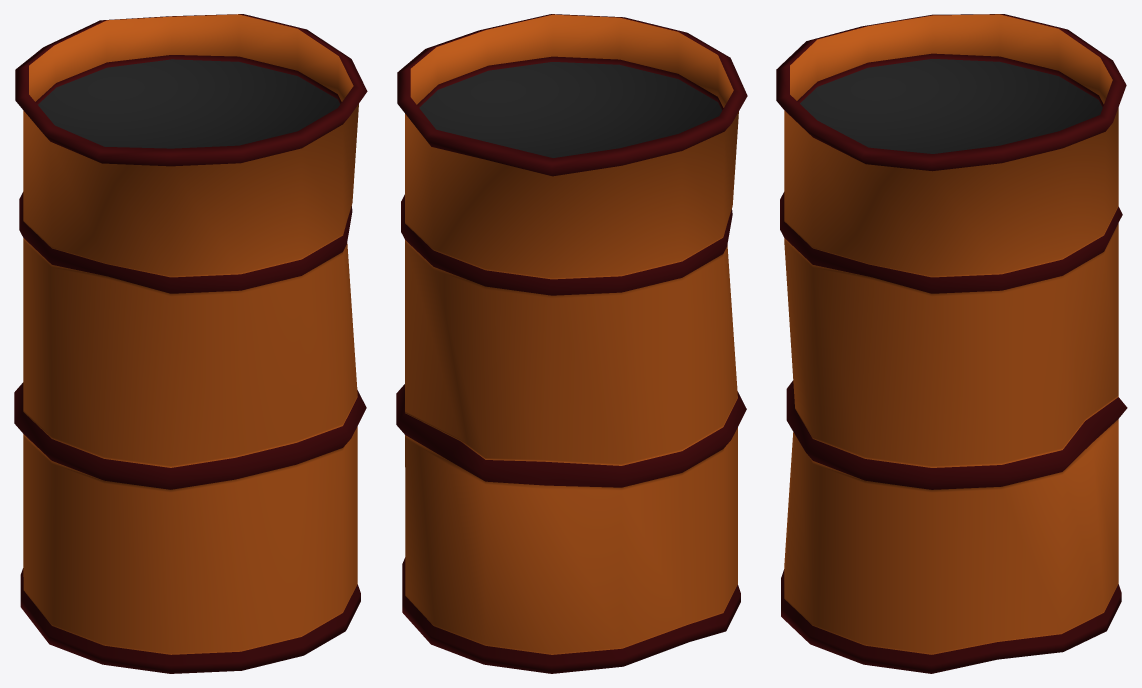
3 views of the same model, side by side, from view 1: azimuth 30°, elevation 25°; view 2: azimuth 150°, elevation 25°; view 3: azimuth 270°, elevation 25° (orthographic).
Parts seen in each view (by area): view 1: Cylinder; view 2: Cylinder; view 3: Cylinder.
Boxes of the visible parts, x1,y1,x2,y2 form: Cylinder: (14,14,367,673); Cylinder: (396,14,747,673); Cylinder: (776,14,1127,673).
Size of the model in its own units: 99.34 by 161 by 98.11.
